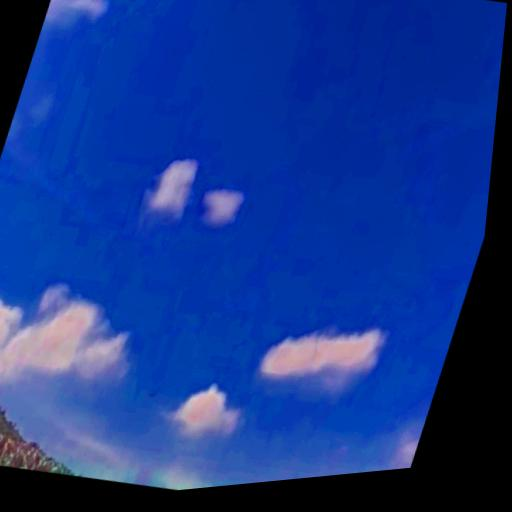drones: (144, 384, 160, 405)
